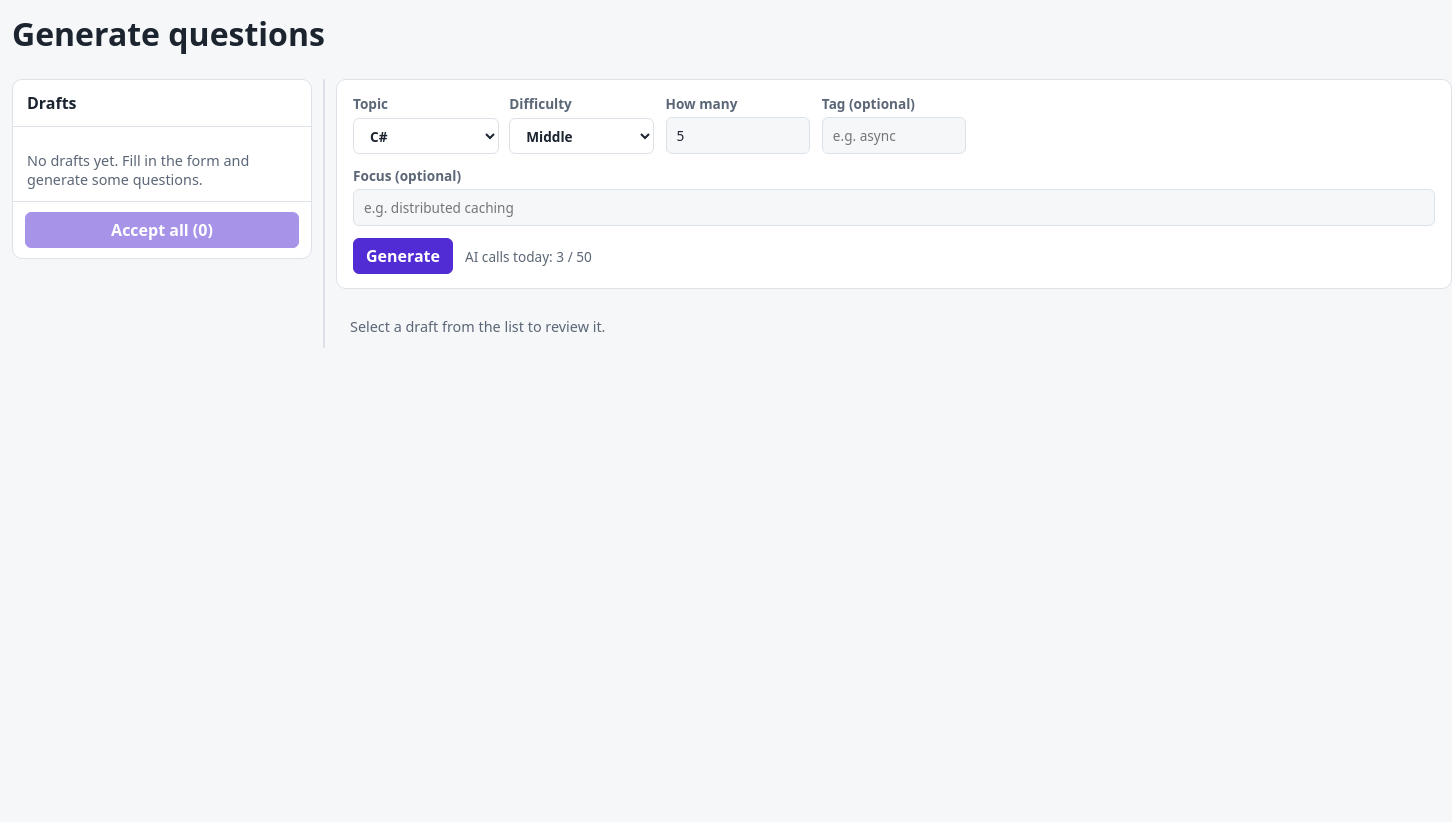
Test: GenerateQuestionsPage › generating › says how many Drafts were skipped as duplicates
The width and height of the screenshot is (1452, 822).
Click the button "Generate".
click(403, 256)  # box top-left (353, 238), bottom-right (453, 274)
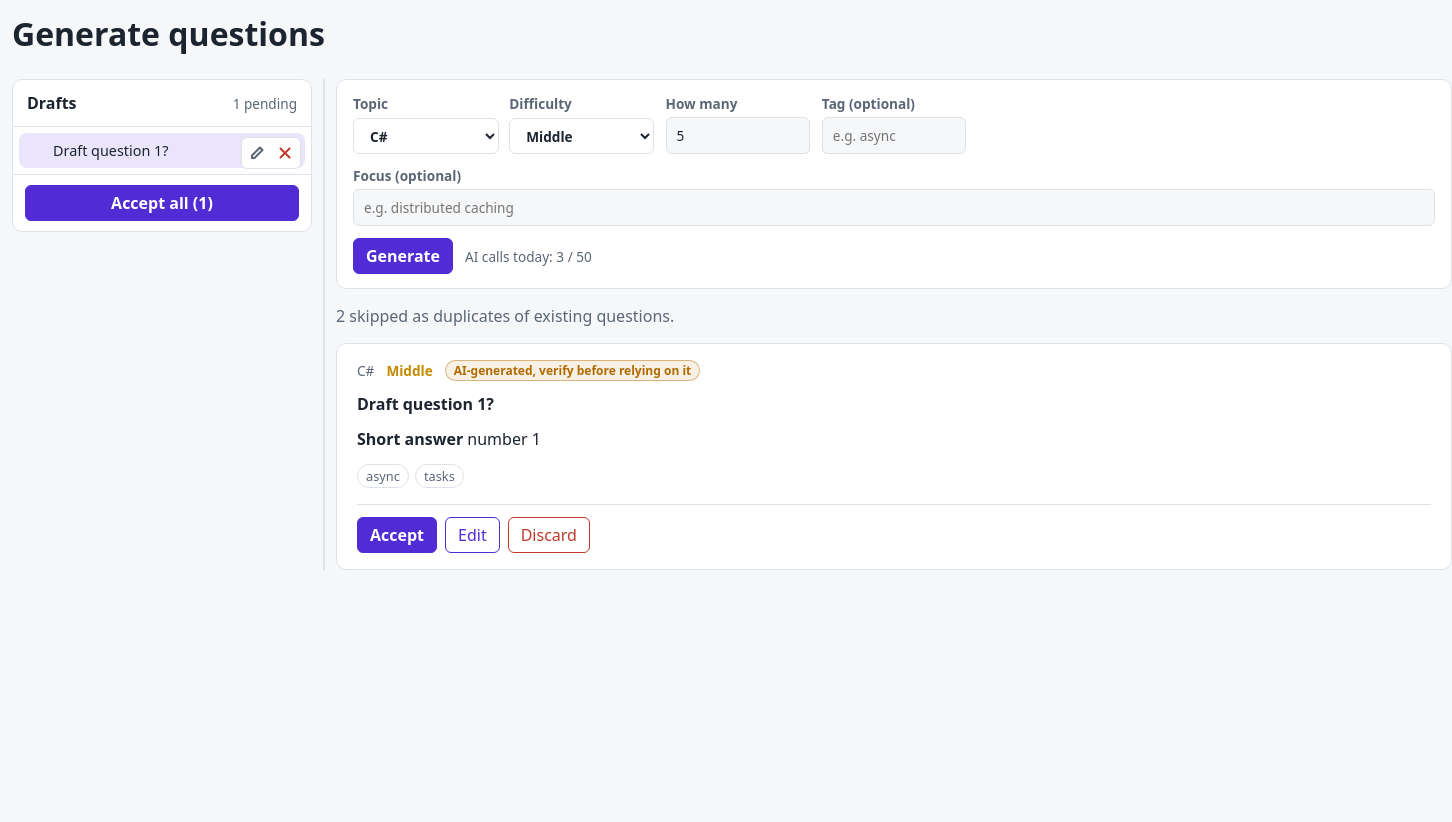
Expected: the text "2 skipped as duplicates of existing questions." is shown, top-left (336, 305), bottom-right (674, 327)
